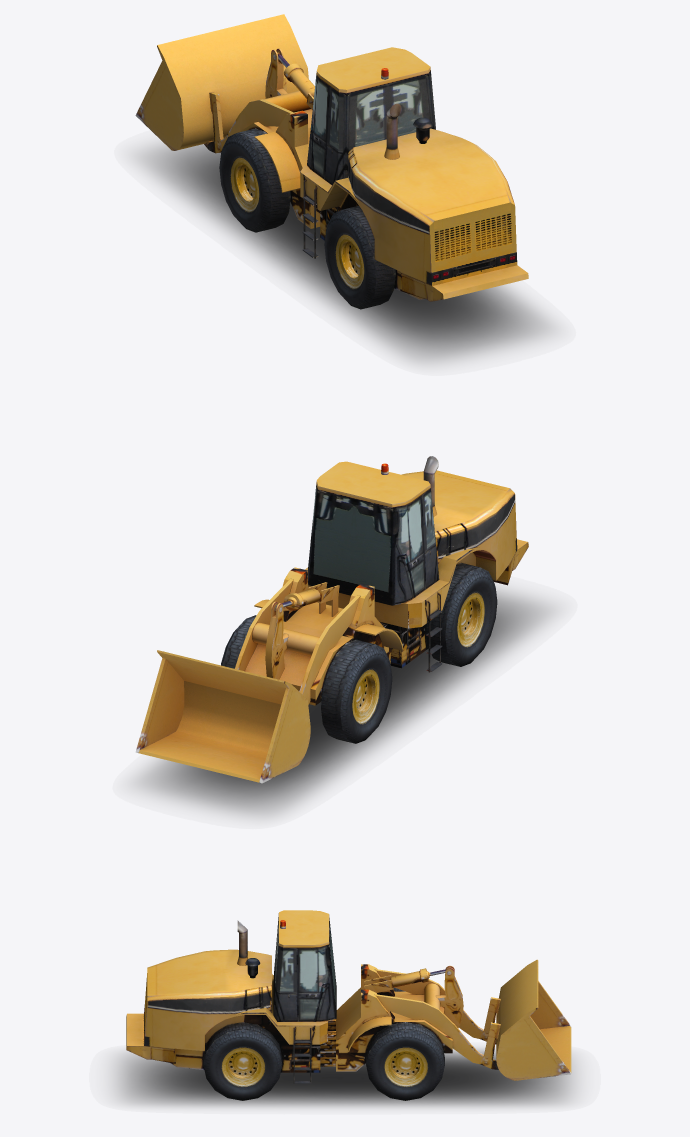
The model's file is Bulldozer.gltf.
3 renders of one model, top to bottom at view 1: azimuth 30°, elevation 25°; view 2: azimuth 150°, elevation 25°; view 3: azimuth 270°, elevation 25°, orthographic. The views are drawn at different scales.
Parts seen in each view (by area): view 1: Bulldozer; view 2: Bulldozer; view 3: Bulldozer.
Part boxes in pixels (left/top/right/bottom): Bulldozer: left=135, top=14, right=549, bottom=361; Bulldozer: left=135, top=456, right=550, bottom=815; Bulldozer: left=116, top=910, right=573, bottom=1106.
Bounding box in the file's own units: 4.18 × 3.45 × 13.18.
